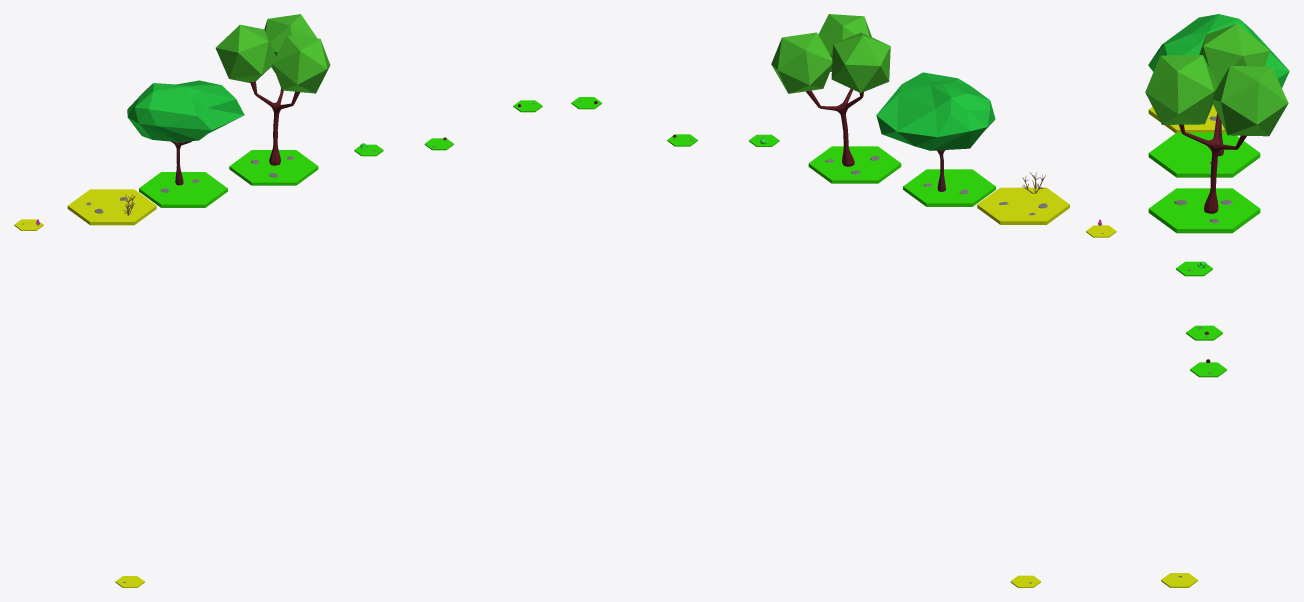
3 views of the same model, side by side, from view 1: azimuth 30°, elevation 25°; view 2: azimuth 150°, elevation 25°; view 3: azimuth 270°, elevation 25° (orthographic). The views are drawn at different scales.
Visible parts, largest first — view 1: Icosphere.008, Icosphere.003, Icosphere.001, Cylinder.007, Cylinder.008, Cylinder.009, Icosphere.002, Cube.001; view 2: Icosphere.008, Icosphere.001, Icosphere.002, Cylinder.007, Cylinder.008, Cylinder.009, Icosphere.003, Cube.001; view 3: Icosphere.002, Icosphere.003, Cylinder.009, Cylinder.008, Icosphere.001, Icosphere.008, Cube.001, Cylinder.007, Cylinder.030, Cylinder.026, Cylinder.013, Cylinder.002.
Boxes of the visible parts, x1,y1,x2,y2 form: Icosphere.008: (127,80,244,142); Icosphere.003: (272,35,330,93); Icosphere.001: (215,24,275,82); Cylinder.007: (67,189,156,225); Cylinder.008: (139,172,227,207); Cylinder.009: (229,150,318,185); Icosphere.002: (264,14,317,73); Cube.001: (250,81,300,165); Icosphere.008: (876,72,995,150); Icosphere.001: (831,32,890,92); Icosphere.002: (771,32,832,93); Cylinder.007: (977,187,1069,224); Cylinder.008: (903,169,995,206); Cylinder.009: (808,146,901,183); Icosphere.003: (818,14,871,71); Cube.001: (806,88,863,166); Icosphere.002: (1212,66,1288,136); Icosphere.003: (1145,55,1218,124); Cylinder.009: (1148,188,1260,233); Cylinder.008: (1148,132,1260,177); Icosphere.001: (1199,23,1269,84); Icosphere.008: (1148,14,1289,87); Cube.001: (1179,113,1246,213); Cylinder.007: (1148,104,1225,133); Cylinder.030: (1190,359,1226,377); Cylinder.026: (1176,261,1212,276); Cylinder.013: (1186,325,1222,340); Cylinder.002: (1161,573,1197,587).
Size of the model in its own units: 22.26 by 20.88 by 4.28.
